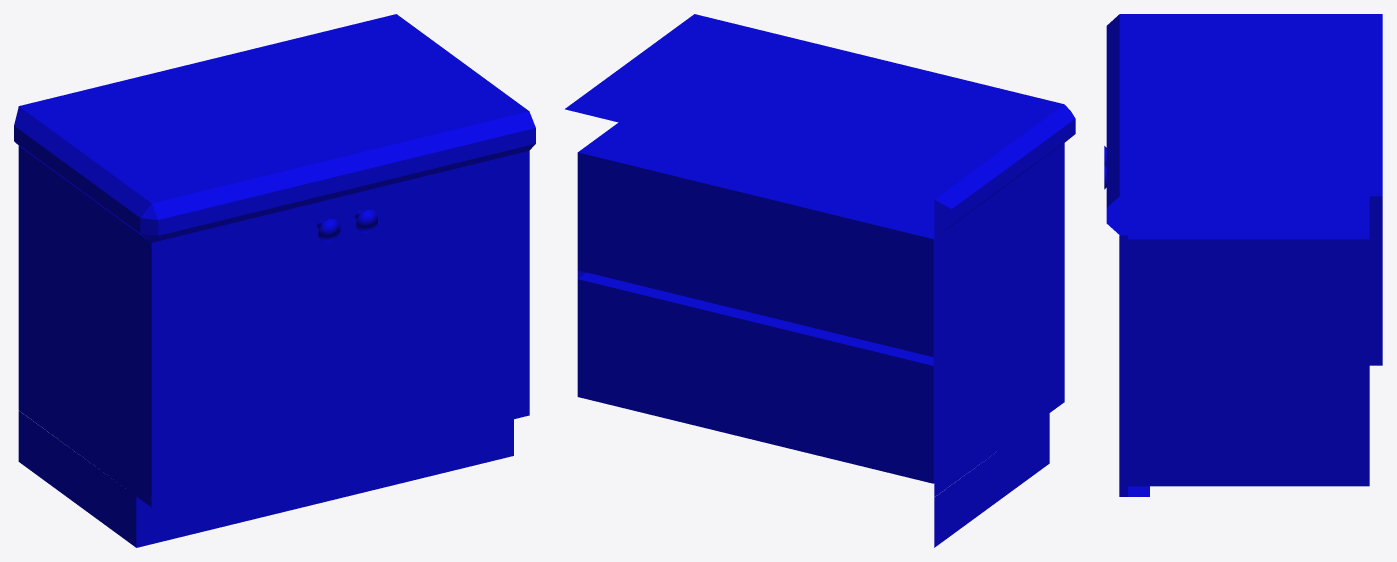
The model's file is Object_CounterLeft.fbx.
The picture shows the model from 3 angles, left to right: view 1: azimuth 30°, elevation 25°; view 2: azimuth 150°, elevation 25°; view 3: azimuth 270°, elevation 25°; orthographic projection. The views are drawn at different scales.
Visible parts, largest first — view 1: CounterLeft_Body_LOW, CounterLeft_LeftDoor_LOW, CounterLeft_RightDoor_LOW; view 2: CounterLeft_Body_LOW, CounterLeft_LeftDoor_LOW; view 3: CounterLeft_Body_LOW, CounterLeft_RightDoor_LOW.
Boxes of the visible parts, left/top/right/bottom form: CounterLeft_Body_LOW: left=14, top=14, right=535, bottom=547; CounterLeft_LeftDoor_LOW: left=147, top=197, right=340, bottom=507; CounterLeft_RightDoor_LOW: left=340, top=151, right=529, bottom=461; CounterLeft_Body_LOW: left=565, top=14, right=1075, bottom=547; CounterLeft_LeftDoor_LOW: left=1060, top=143, right=1064, bottom=404; CounterLeft_Body_LOW: left=1106, top=14, right=1382, bottom=496; CounterLeft_RightDoor_LOW: left=1104, top=164, right=1127, bottom=496.
Size of the model in its own units: 1.03 by 0.9 by 0.6451.
